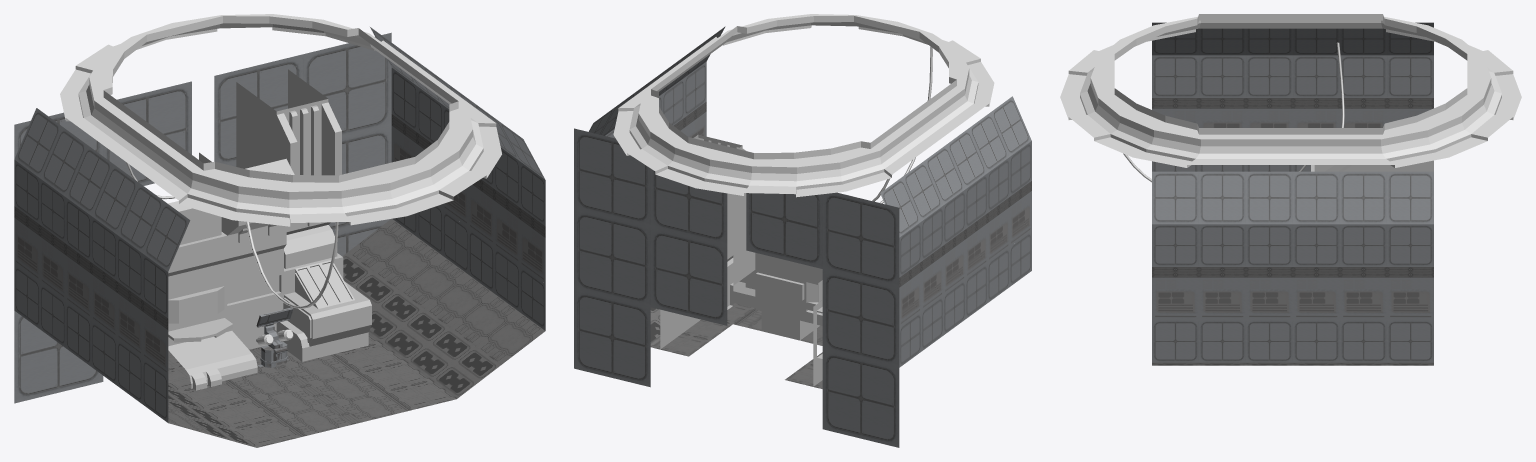
File: Intro_scene_test.fbx
The picture shows the model from 3 angles, left to right: view 1: azimuth 30°, elevation 25°; view 2: azimuth 150°, elevation 25°; view 3: azimuth 270°, elevation 25°; orthographic projection. The views are drawn at different scales.
Parts seen in each view (by area): view 1: SuperComputer, Cylinder.002, Plane1.013, Plane1.023, Plane1.022, Plane1.002, Plane1.012, Plane2_LP.001, Plane2_LP.055, Cube, BezierCurve.005; view 2: Plane2_LP.001, Plane2_LP.055, Cylinder.002, Plane1.023, Plane1.022, SuperComputer, Plane1.013, Plane1.002, Plane1.012; view 3: Cylinder.002, Plane1.012, Plane1.013, Plane1.023, Plane1.022, SuperComputer.
Part boxes in pixels (left/top/right/bottom): SuperComputer: left=168, top=69, right=371, bottom=390; Cylinder.002: left=60, top=14, right=501, bottom=226; Plane1.013: left=380, top=83, right=545, bottom=398; Plane1.023: left=91, top=164, right=256, bottom=447; Plane1.022: left=14, top=108, right=179, bottom=391; Plane1.002: left=168, top=335, right=456, bottom=447; Plane1.012: left=342, top=27, right=468, bottom=342; Plane2_LP.001: left=214, top=32, right=391, bottom=256; Plane2_LP.055: left=14, top=81, right=191, bottom=403; Cube: left=256, top=307, right=293, bottom=367; BezierCurve.005: left=126, top=162, right=338, bottom=308; Plane2_LP.001: left=574, top=128, right=727, bottom=387; Plane2_LP.055: left=746, top=192, right=899, bottom=447; Cylinder.002: left=613, top=14, right=994, bottom=197; Plane1.023: left=946, top=96, right=1031, bottom=318; Plane1.022: left=880, top=144, right=965, bottom=367; SuperComputer: left=660, top=134, right=822, bottom=386; Plane1.013: left=657, top=26, right=725, bottom=137; Plane1.002: left=651, top=303, right=822, bottom=388; Plane1.012: left=588, top=75, right=660, bottom=346; Cylinder.002: left=1060, top=14, right=1521, bottom=167; Plane1.012: left=1293, top=171, right=1433, bottom=365; Plane1.013: left=1152, top=171, right=1292, bottom=365; Plane1.023: left=1152, top=22, right=1292, bottom=171; Plane1.022: left=1293, top=22, right=1433, bottom=171; SuperComputer: left=1311, top=160, right=1433, bottom=171.
Bounding box in the file's own units: 1700 × 1372 × 1964.
